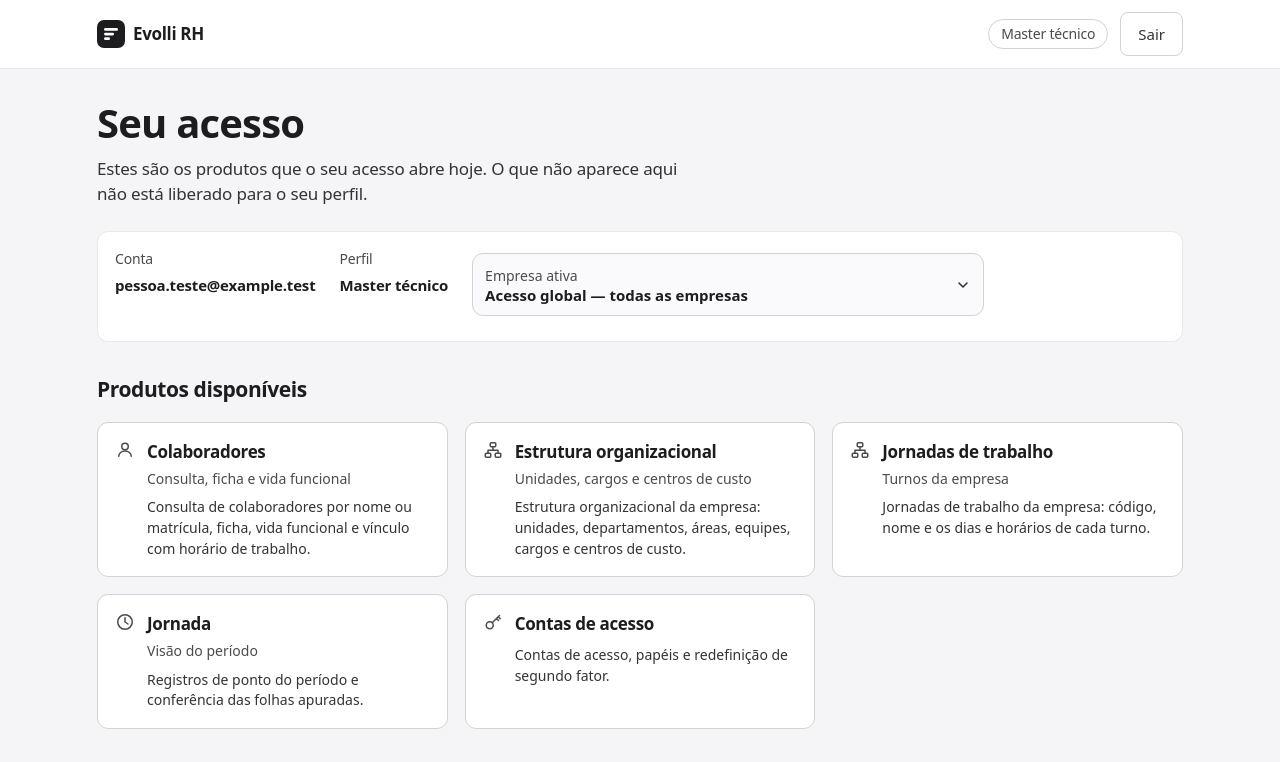
Test case: T163/T189 — quem troca de empresa, e quem não troca › master_tecnico sem seleção mostra o escopo global, sem empresa marcada
What coordinates should you click on to do the following:
click the button "Empresa ativa Acesso global — todas as empresas"
I would click on:
 (728, 285)
Its box is [472,253,984,316].
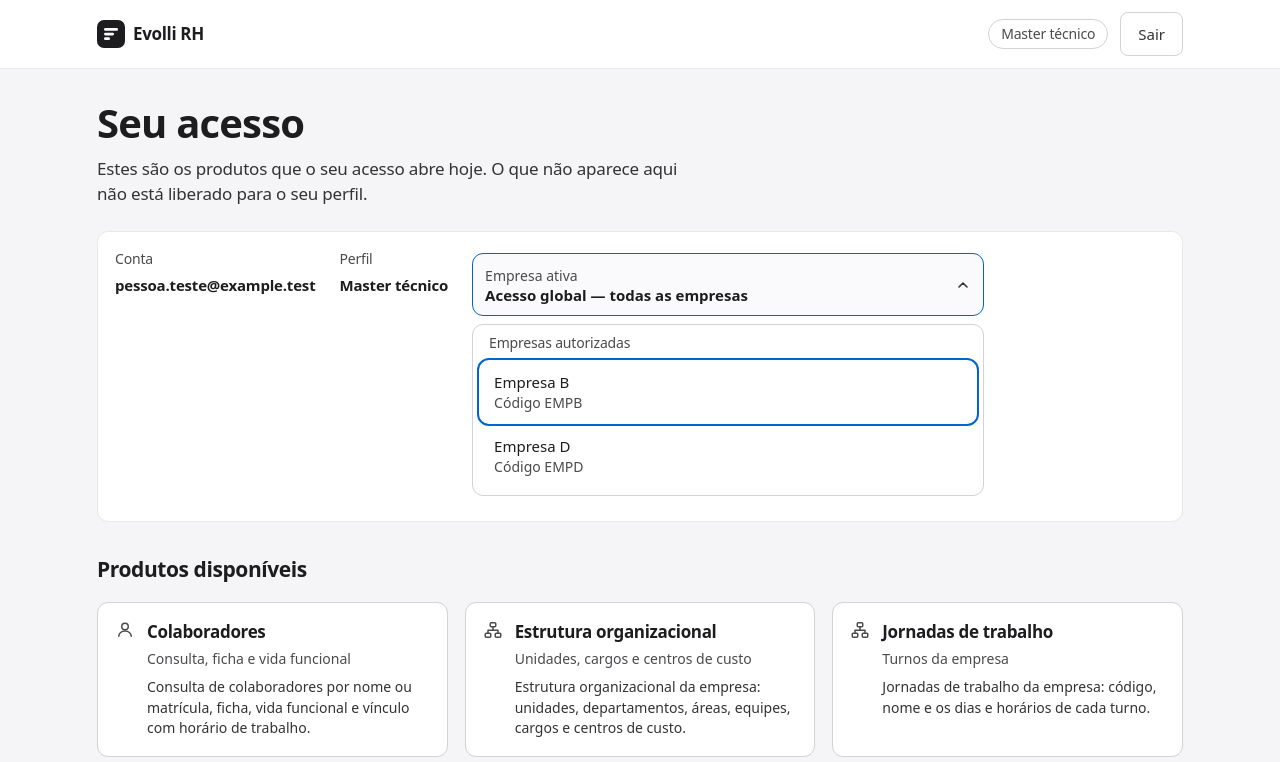
Check: the list named "Empresas autorizadas" is shown, box [481,362,975,487]
